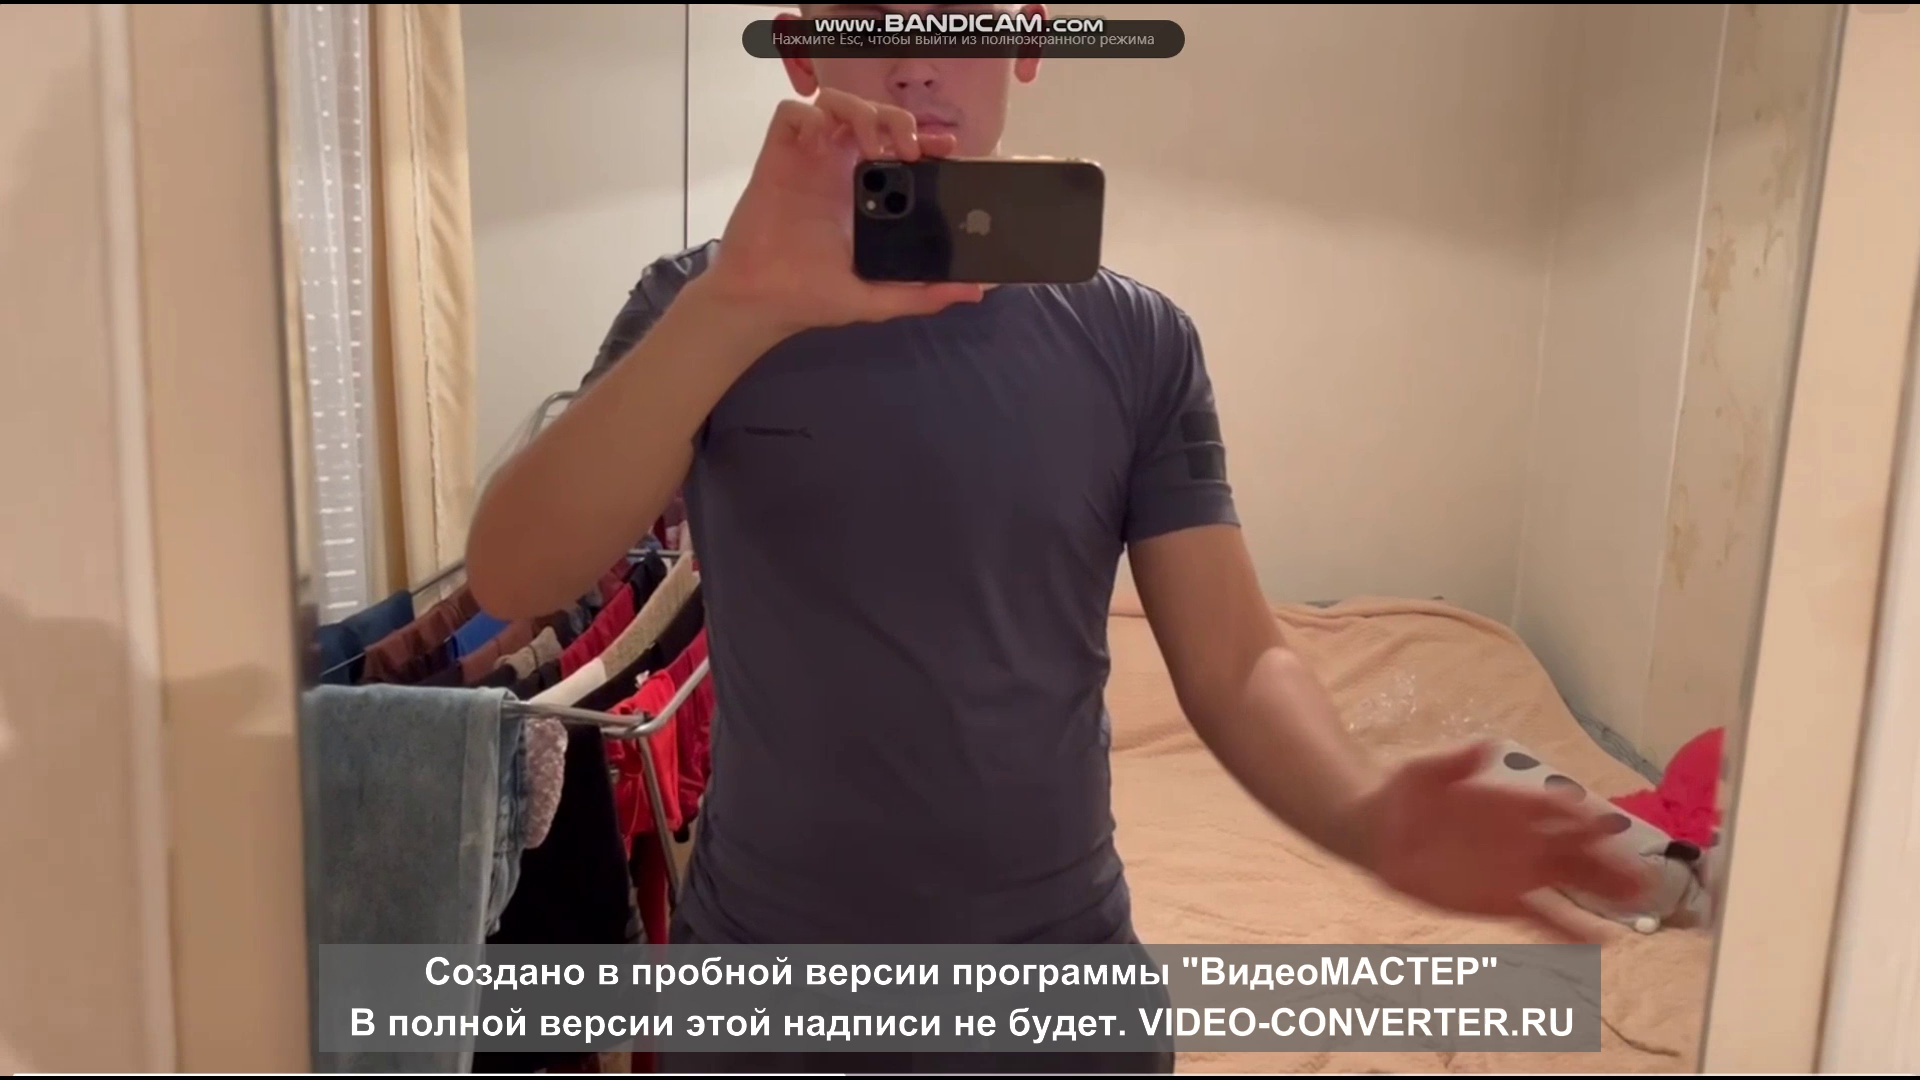Ладонь: (1378, 731, 1644, 938)
